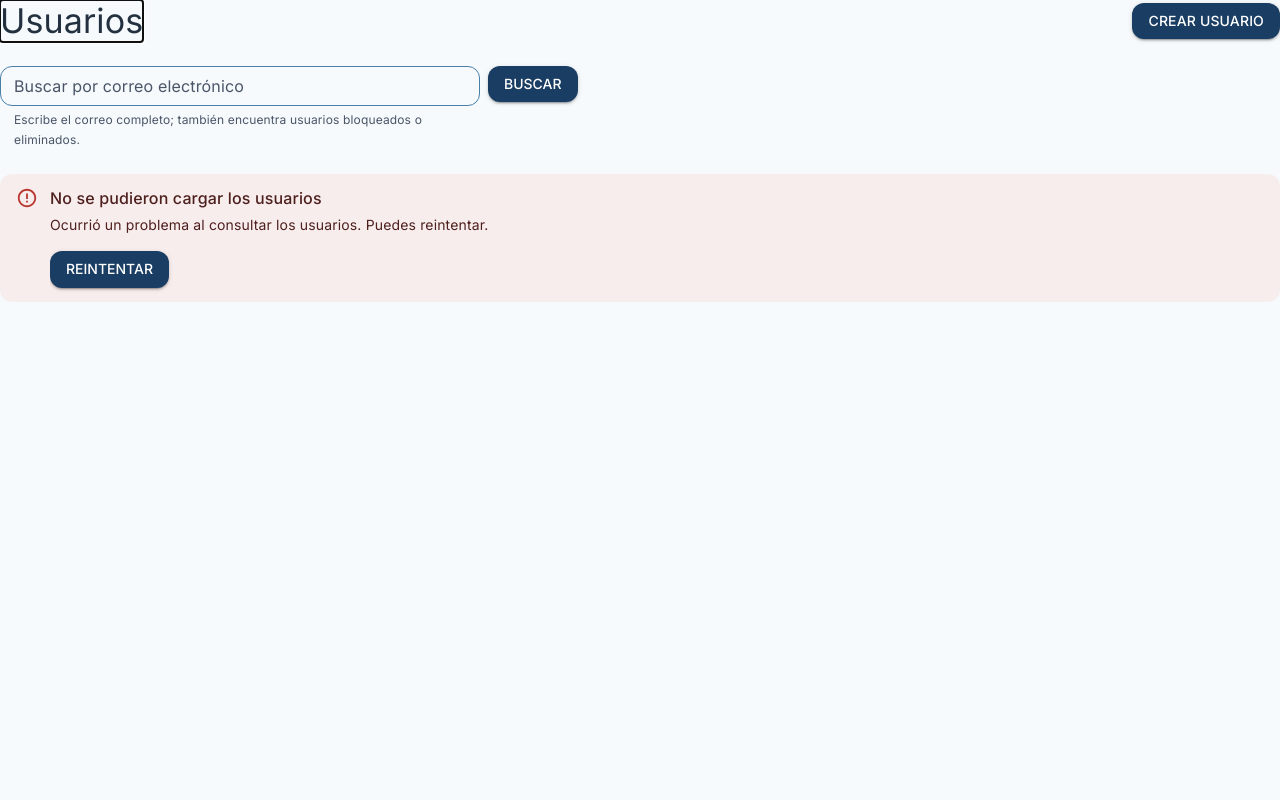
Test: UsersListPage: the list › shows the error with a retry when the service fails, and retrying shows the list (US1-6)
Expected: the text "No se pudieron cargar los usuarios" is shown, [50, 188, 322, 208]
Click the button "Reintentar" at (110, 270), box [50, 251, 169, 288]
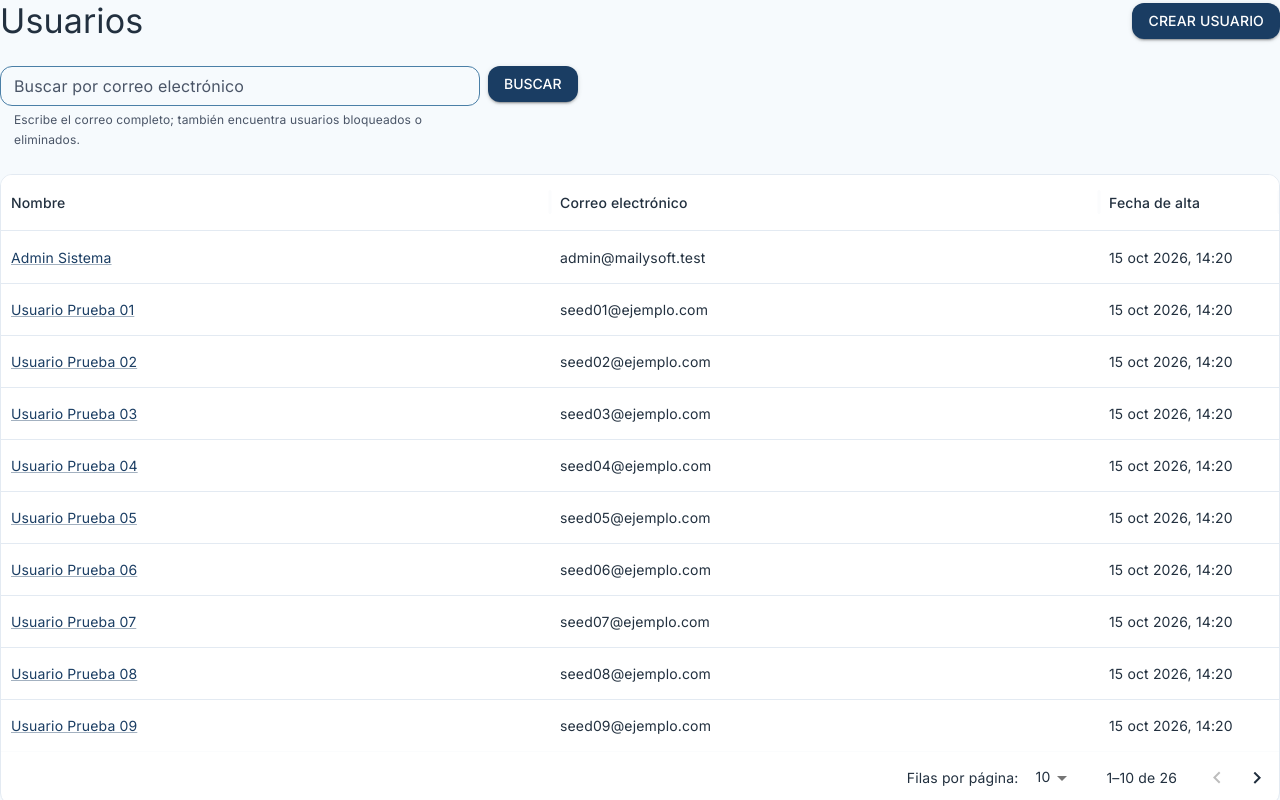
Expected: the link "Admin Sistema" is shown, [11, 249, 112, 266]
Expected: the text "No se pudieron cargar los usuarios" is gone
